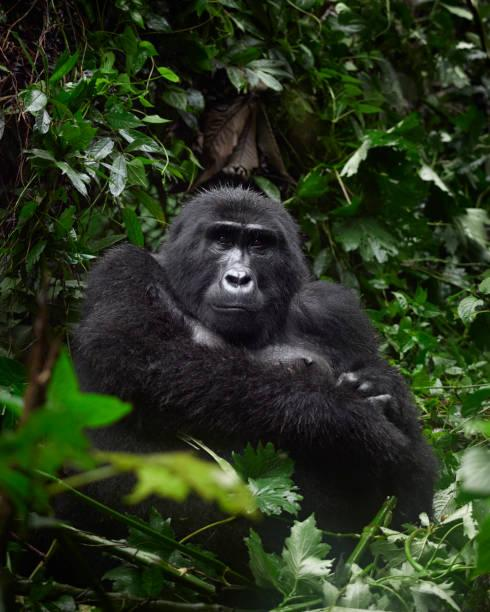goriile_montagne: (67, 135, 451, 539)
